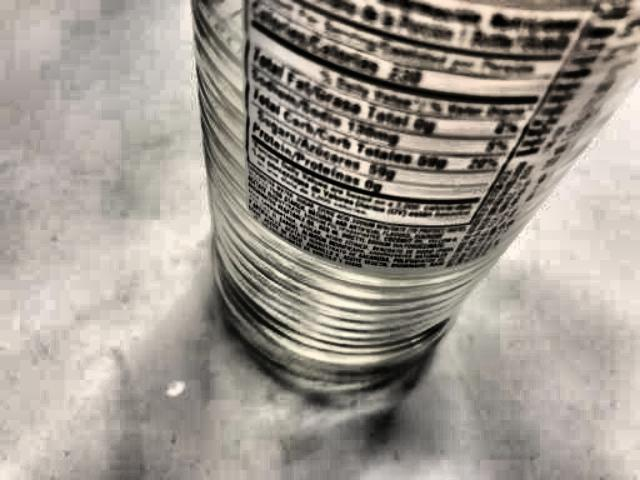Bottles: (164, 0, 640, 410)
